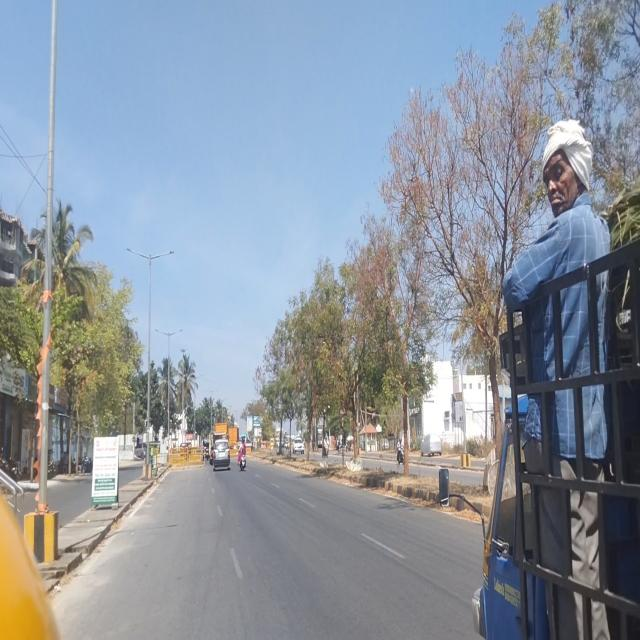bien_cam: (339, 401, 347, 416)
